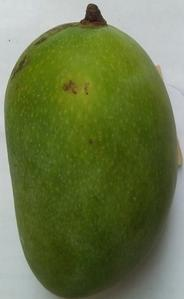Unripe: (0, 1, 184, 299)
